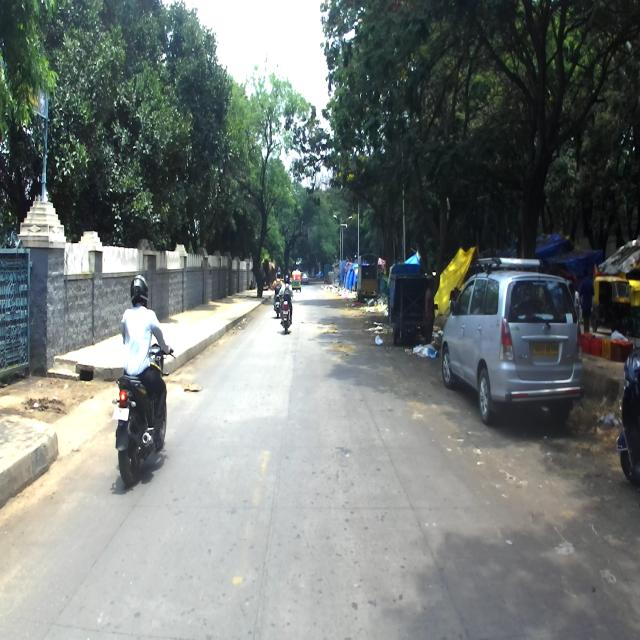car ahead at: (438, 253, 585, 427)
motorcycle ahead at: (115, 365, 173, 490), (280, 272, 294, 334)
